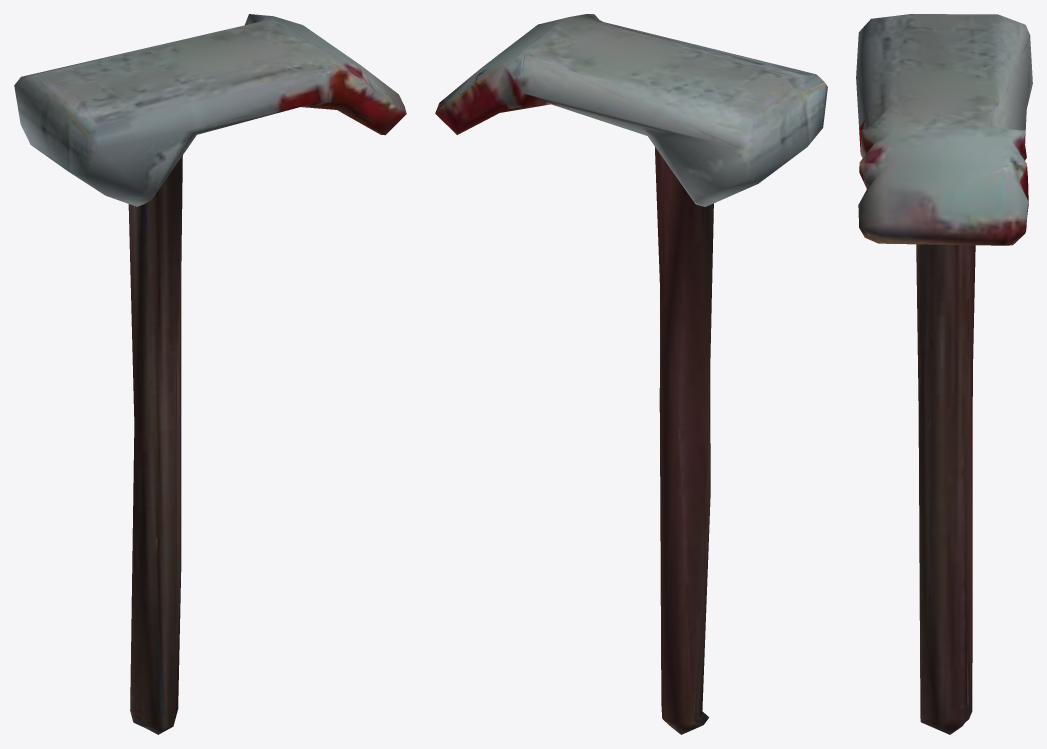
File: chisel_heavy.glb
3 renders of one model, left to right at view 1: azimuth 30°, elevation 25°; view 2: azimuth 150°, elevation 25°; view 3: azimuth 270°, elevation 25°, orthographic.
Parts seen in each view (by area): view 1: chisel2; view 2: chisel2; view 3: chisel2.
Part boxes in pixels (bbox=[...]): chisel2: bbox=[14, 14, 406, 734]; chisel2: bbox=[435, 14, 827, 734]; chisel2: bbox=[856, 14, 1032, 734].
Size of the model in its own units: 0.1849 by 0.3624 by 0.0865.
1 material, 1 textured.
